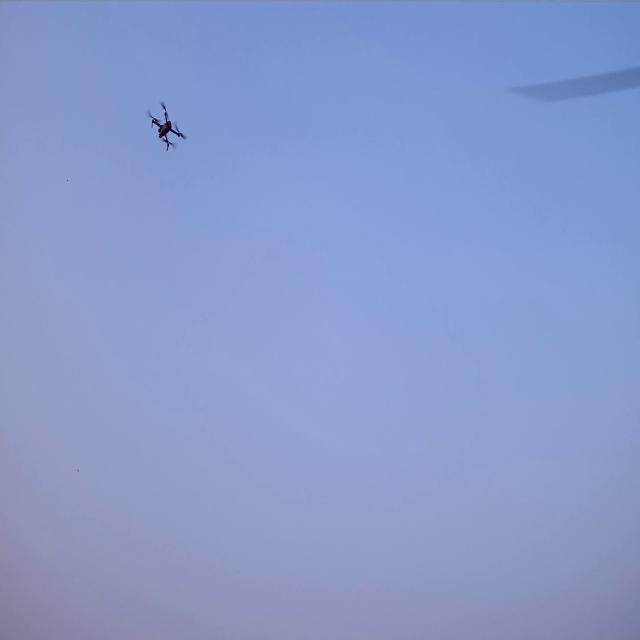UAV: (152, 106, 183, 150)
